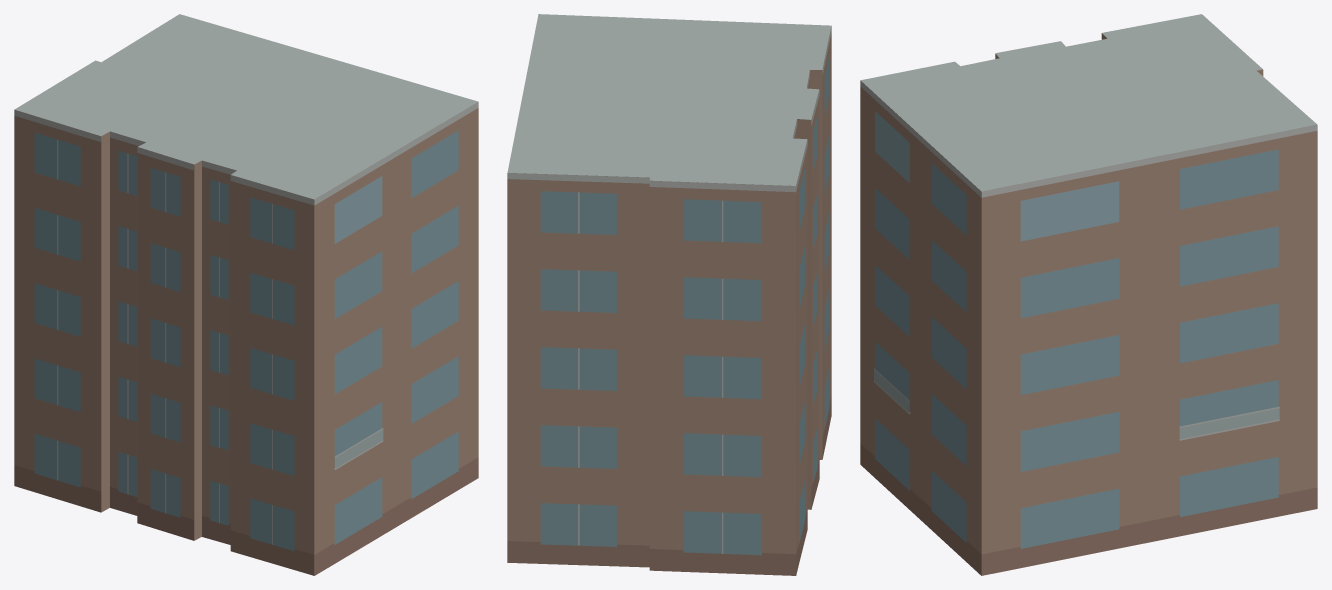
File: survey-upis-32758410.glb
3 renders of one model, left to right at view 1: azimuth 30°, elevation 25°; view 2: azimuth 150°, elevation 25°; view 3: azimuth 270°, elevation 25°, orthographic. The views are drawn at different scales.
Parts seen in each view (by area): view 1: survey-upis-32758410.tmp; view 2: survey-upis-32758410.tmp; view 3: survey-upis-32758410.tmp.
Part boxes in pixels (bbox=[...]): survey-upis-32758410.tmp: bbox=[14, 14, 478, 575]; survey-upis-32758410.tmp: bbox=[507, 14, 831, 575]; survey-upis-32758410.tmp: bbox=[860, 14, 1317, 575].
Bounding box in the file's own units: 15.13 × 15.25 × 16.45.
